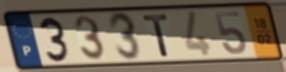3: (108, 9, 143, 64), (73, 14, 107, 62), (39, 15, 70, 64)
4: (183, 9, 214, 60)
5: (212, 10, 249, 56)
T: (141, 13, 172, 58)
